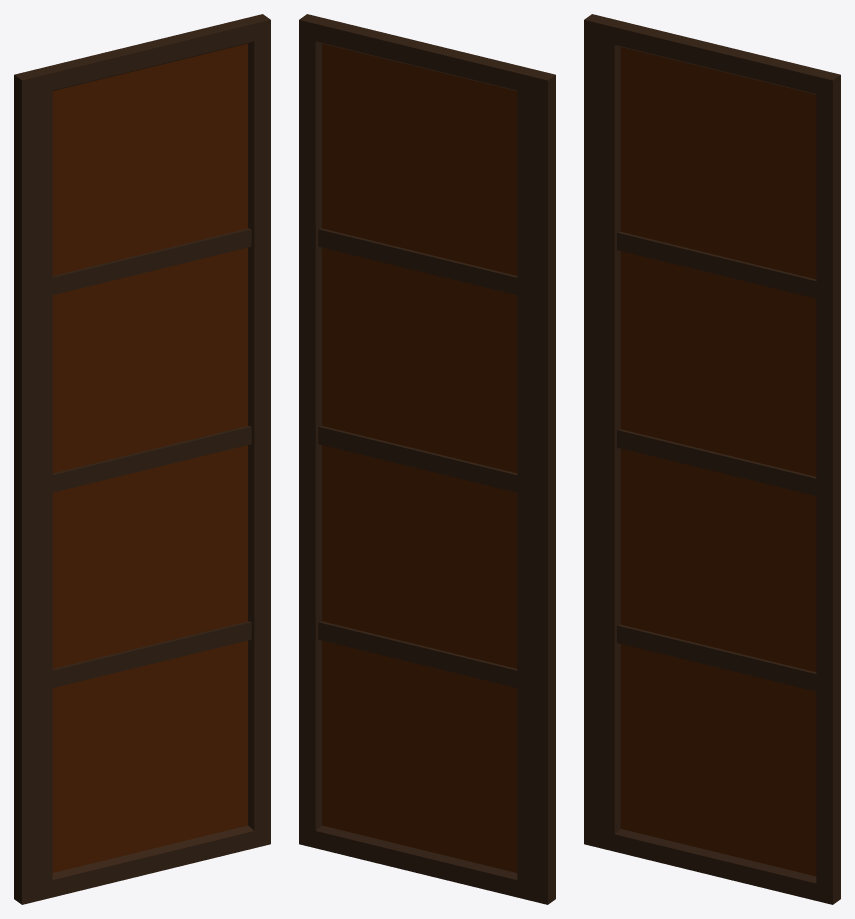
Rendered from Prop_Dojo_Entrance_DoorL_Outside.fbx.
The picture shows the model from 3 angles, left to right: view 1: azimuth 30°, elevation 25°; view 2: azimuth 150°, elevation 25°; view 3: azimuth 330°, elevation 25°; orthographic projection.
Parts seen in each view (by area): view 1: Prop_Dojo_Entrance_DoorL_Outside; view 2: Prop_Dojo_Entrance_DoorL_Outside; view 3: Prop_Dojo_Entrance_DoorL_Outside.
Part boxes in pixels (x1=…): Prop_Dojo_Entrance_DoorL_Outside: x1=14, y1=14, x2=270, y2=904; Prop_Dojo_Entrance_DoorL_Outside: x1=299, y1=14, x2=555, y2=904; Prop_Dojo_Entrance_DoorL_Outside: x1=584, y1=14, x2=840, y2=904.
Size of the model in its own units: 90 by 285 by 5.
